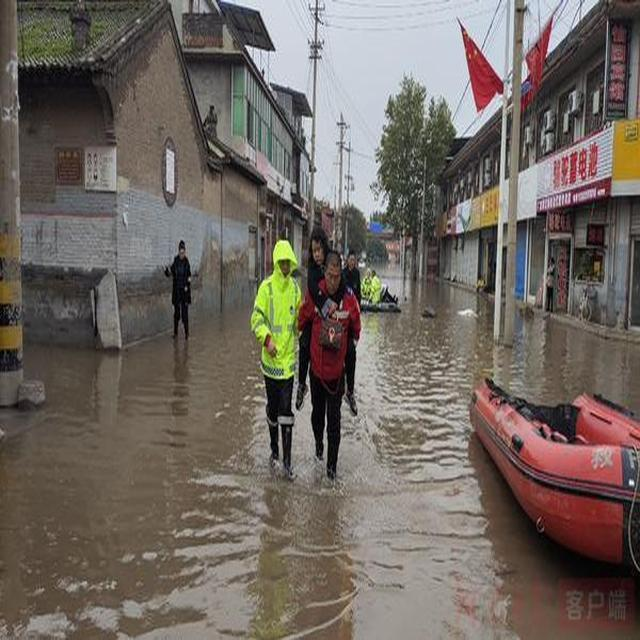Person-RiskLevel2: (297, 222, 363, 482), (250, 236, 304, 479), (148, 235, 202, 347)
